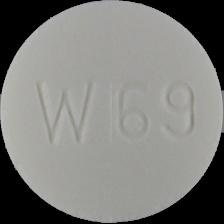68788-9505: (0, 0, 224, 224)
